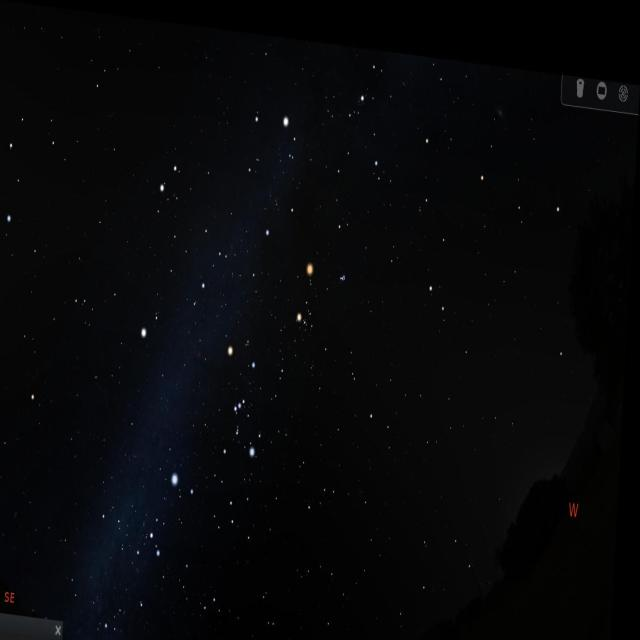canis_major: (156, 457, 210, 561)
canis_minor: (139, 295, 170, 345)
gemini: (150, 144, 256, 316)
orion: (218, 337, 272, 463)
pleiades: (336, 259, 357, 287)
taurus: (298, 245, 361, 358)
